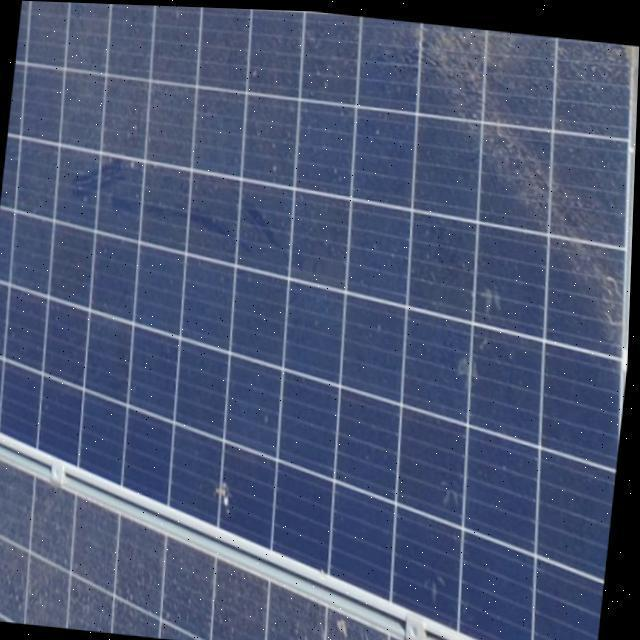Surface Contaminant: (0, 1, 637, 343), (206, 455, 247, 527)
